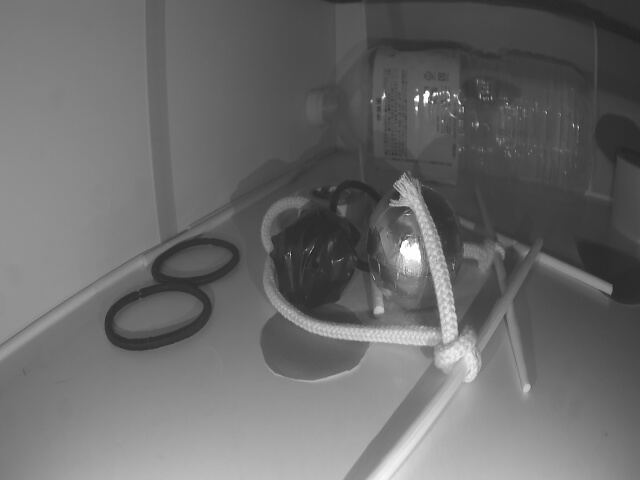Dead: (269, 214, 356, 307)
Live: (365, 185, 462, 312)
